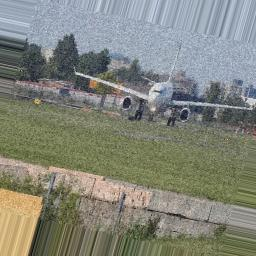Airplane: (74, 44, 255, 128)
